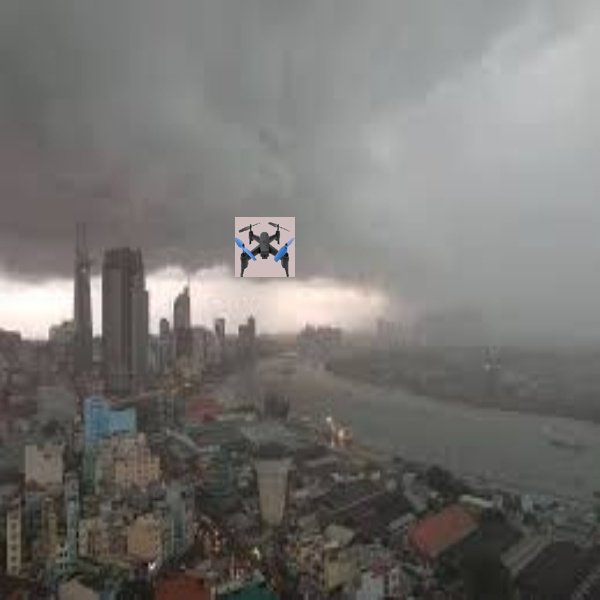drone: (234, 214, 292, 274)
